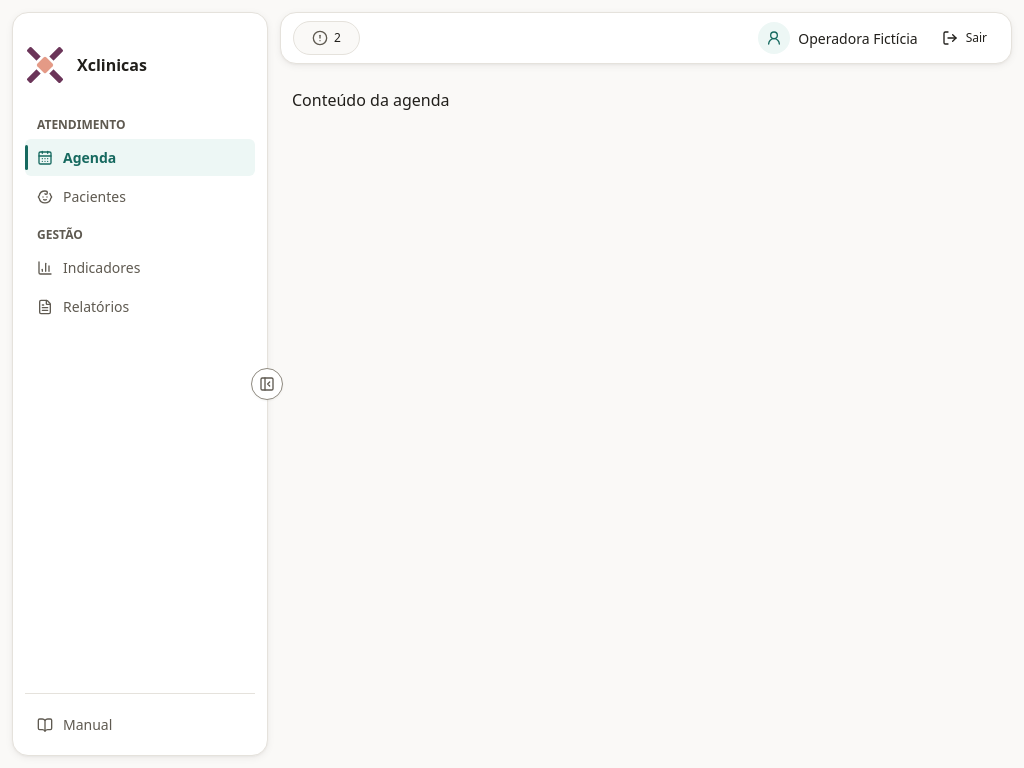
Test: AppShell — painéis de notificação › deve mostrar a especialidade no termo pendente e levar à ficha
Click the button named "Termos pendentes" at (326, 38), box [304, 26, 349, 50]
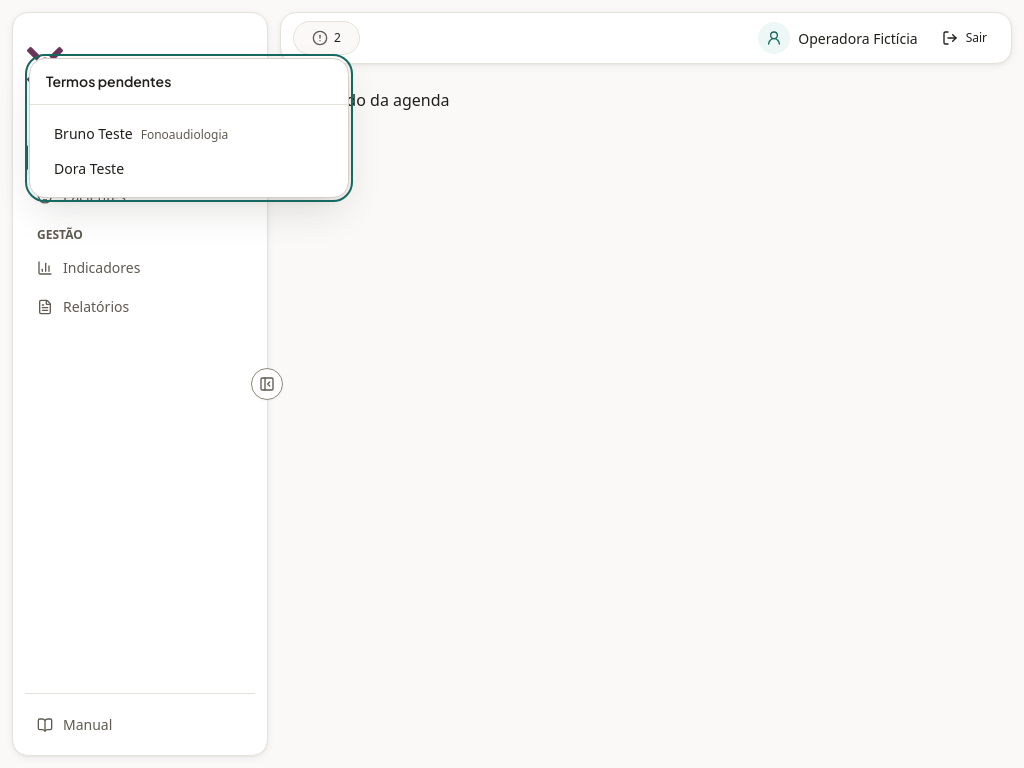
expect the dialog "Termos pendentes" shows "Fonoaudiologia": met, box [46, 117, 332, 150]
